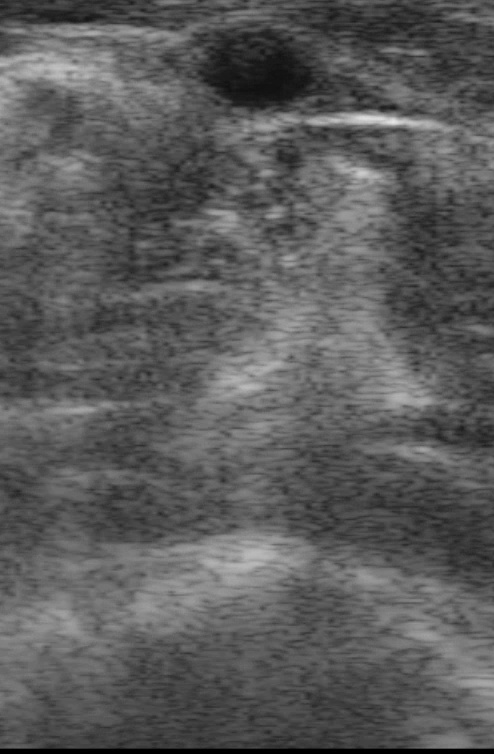veins_detect: (191, 22, 337, 123)
veins_seg: (195, 27, 319, 107)
